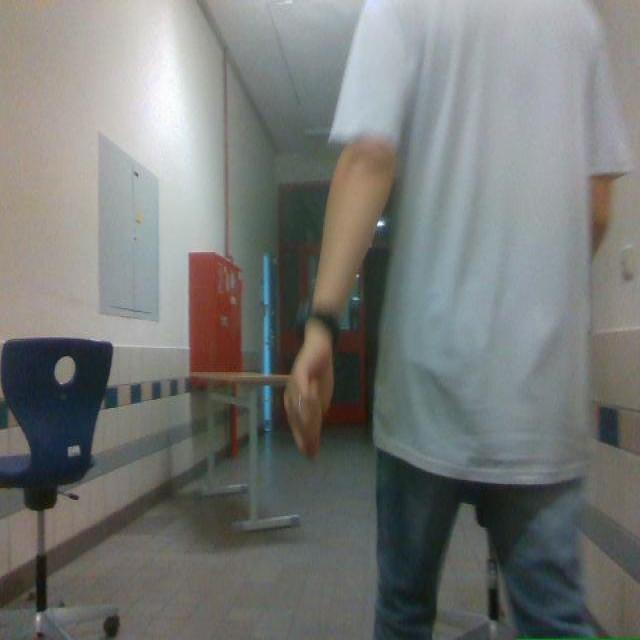humans: (285, 0, 631, 639)
objects: (0, 337, 119, 639), (192, 371, 297, 529)
